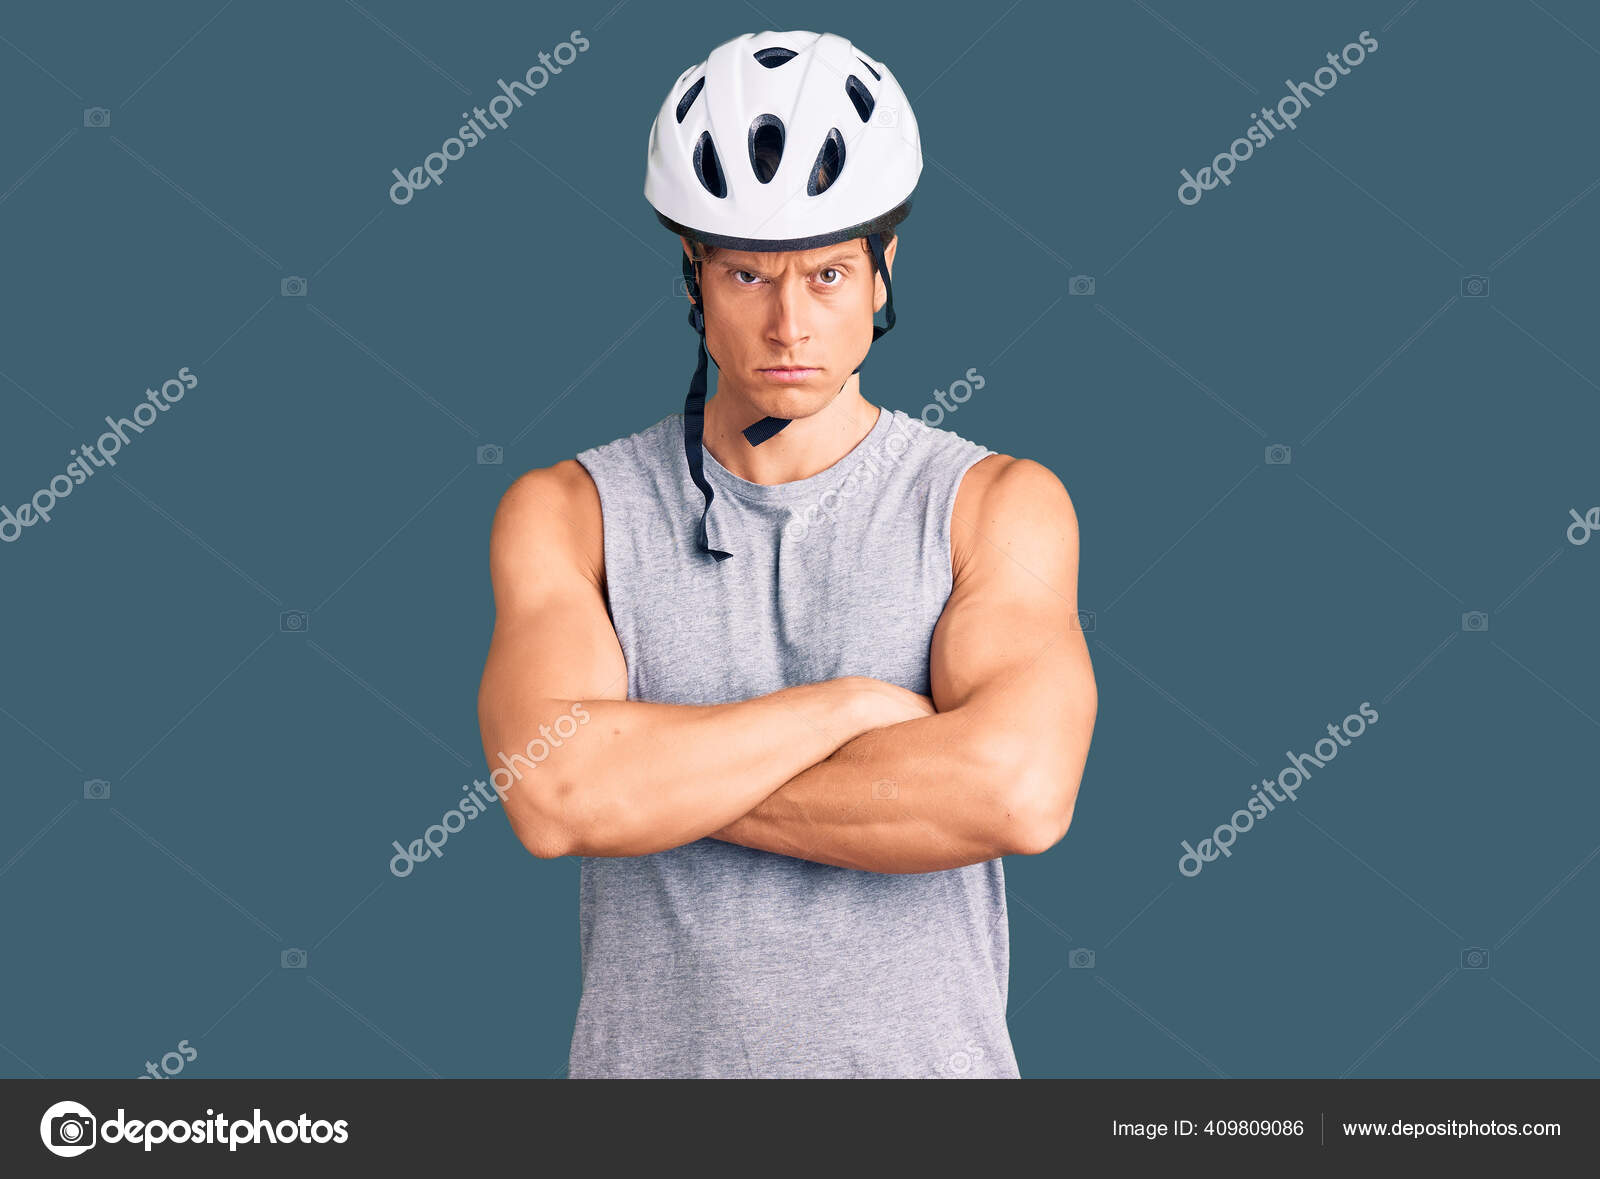helmet: (643, 30, 920, 417)
